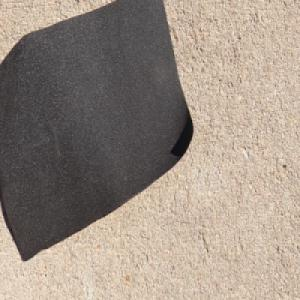PaintChip: (8, 0, 200, 262)
